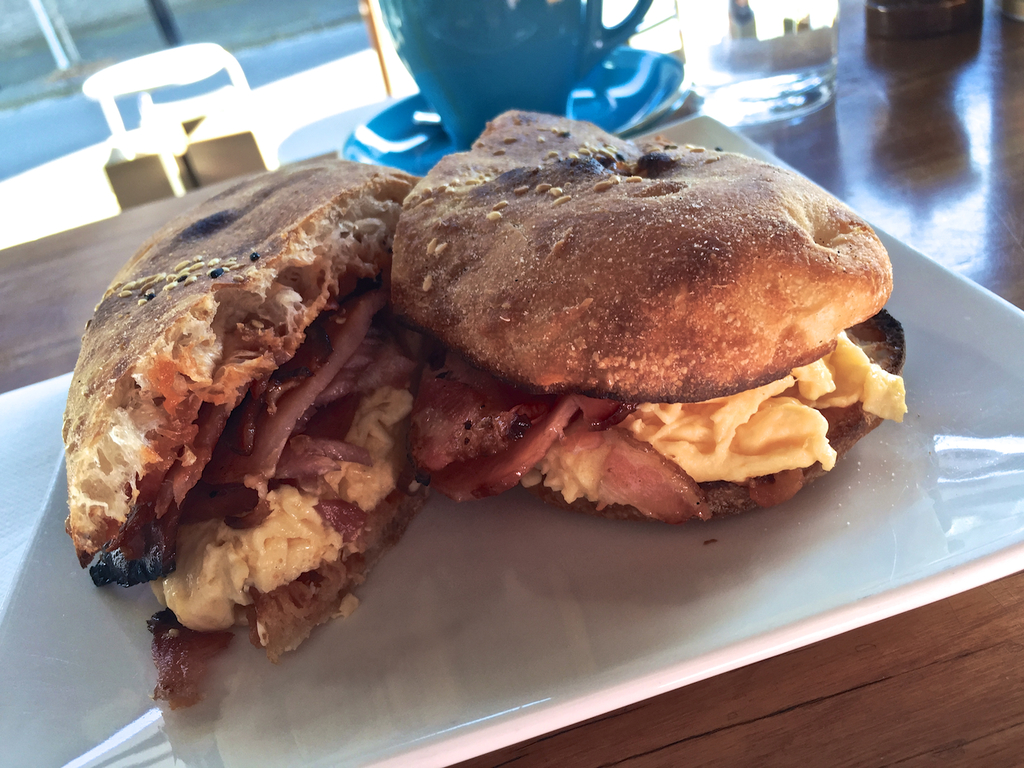Hamburger: (391, 108, 908, 526), (64, 159, 423, 710)
